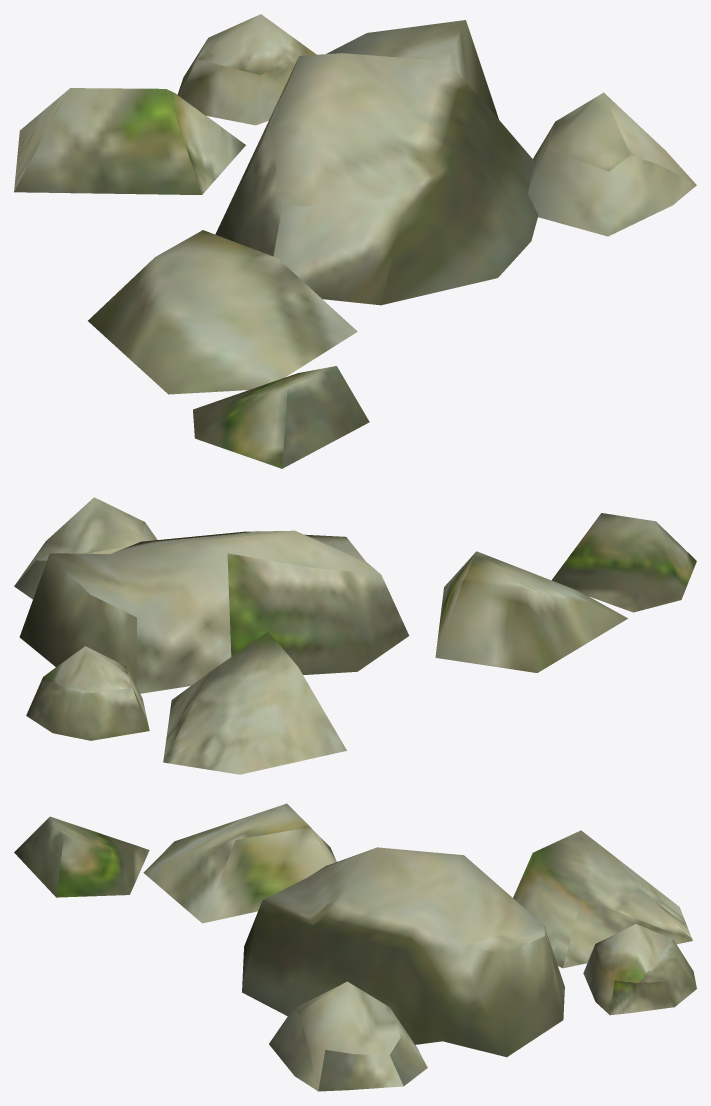
The model's file is S_Rock_Green050_a.FBX.
3 views of the same model, one above another, from view 1: azimuth 30°, elevation 25°; view 2: azimuth 150°, elevation 25°; view 3: azimuth 270°, elevation 25° (orthographic). The views are drawn at different scales.
Parts seen in each view (by area): view 1: S_Rock_Green050_a; view 2: S_Rock_Green050_a; view 3: S_Rock_Green050_a.
Part boxes in pixels (x1=…): S_Rock_Green050_a: x1=14, y1=14, x2=696, y2=468; S_Rock_Green050_a: x1=14, y1=497, x2=696, y2=774; S_Rock_Green050_a: x1=14, y1=803, x2=696, y2=1091.
Size of the model in its own units: 240 by 273 by 50.36.
Materials: 1 (1 with a texture image).
